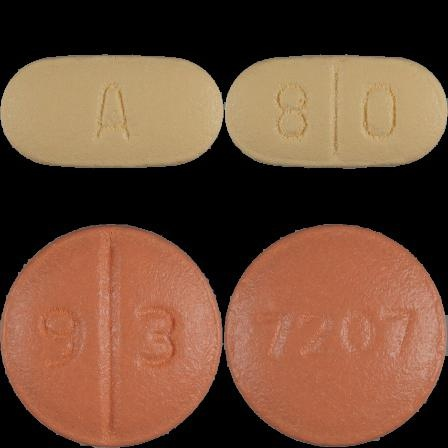49999-629: (0, 0, 224, 224)
